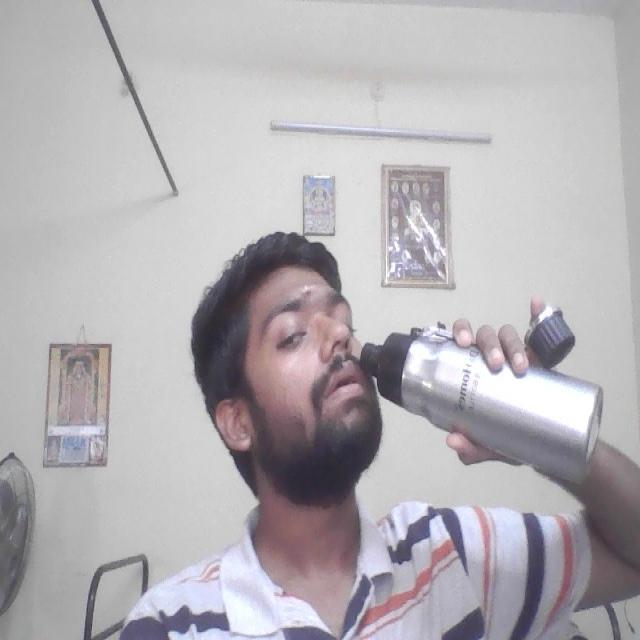Drinking: (354, 316, 611, 499)
